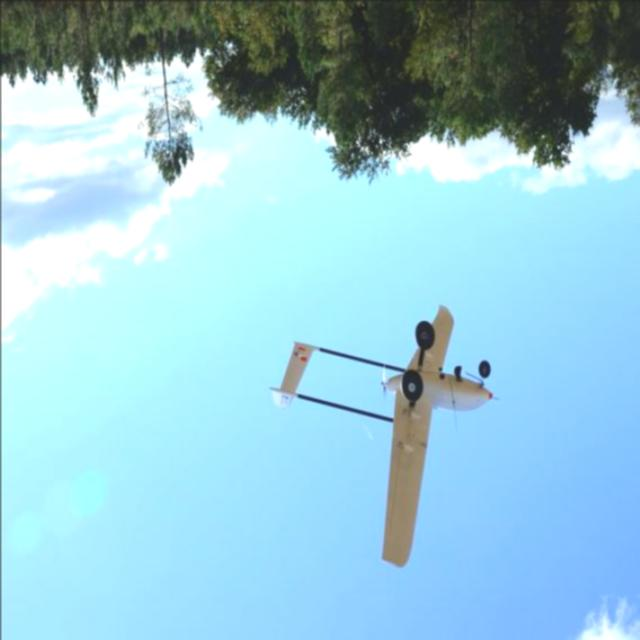plane: (268, 304, 499, 569)
